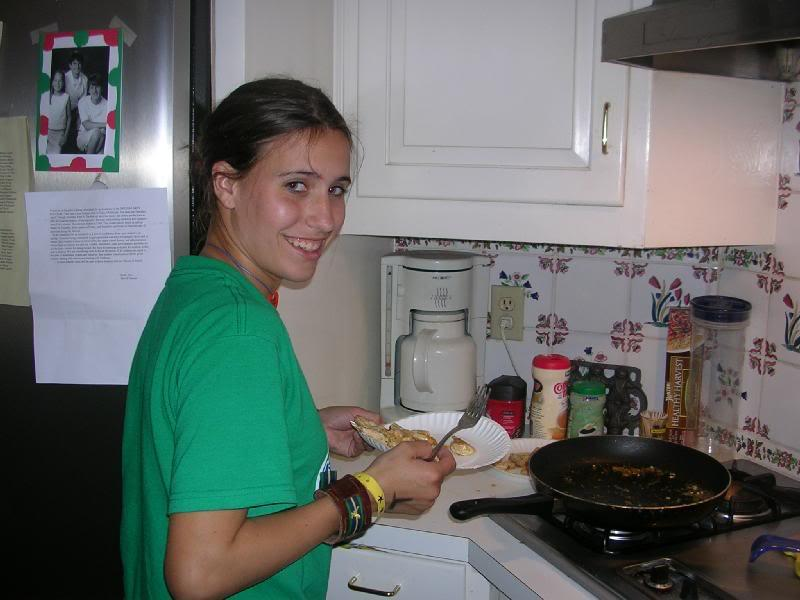person: (119, 79, 459, 600)
